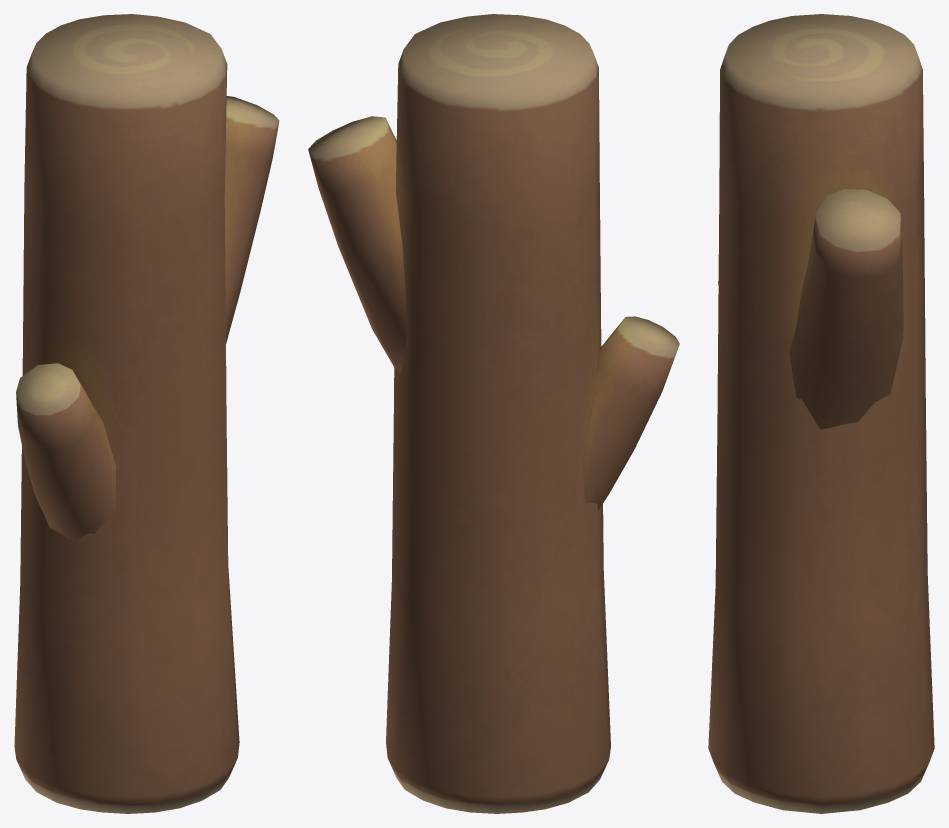
The model's file is Env_Base_TreePieceA_01.fbx.
3 views of the same model, side by side, from view 1: azimuth 30°, elevation 25°; view 2: azimuth 150°, elevation 25°; view 3: azimuth 270°, elevation 25° (orthographic).
Visible parts, largest first — view 1: Env_Base_TreePieceA_01; view 2: Env_Base_TreePieceA_01; view 3: Env_Base_TreePieceA_01.
Part boxes in pixels (<box>): Env_Base_TreePieceA_01: <box>14,14,279,813</box>; Env_Base_TreePieceA_01: <box>308,14,679,813</box>; Env_Base_TreePieceA_01: <box>708,14,934,813</box>.
Size of the model in its own units: 0.6784 by 1.54 by 0.4341.
